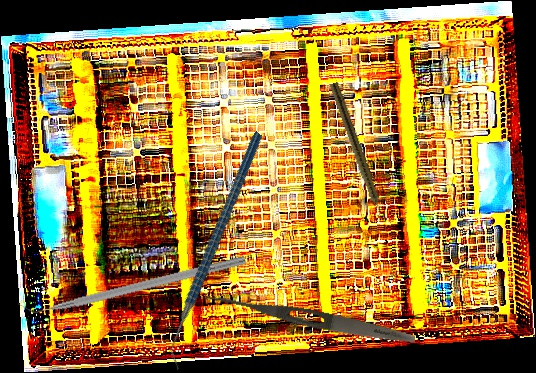Chopper: (104, 131, 330, 370), (16, 243, 247, 321)
Dressing Forceps: (204, 288, 417, 349)
Handpiece: (326, 81, 387, 219)
